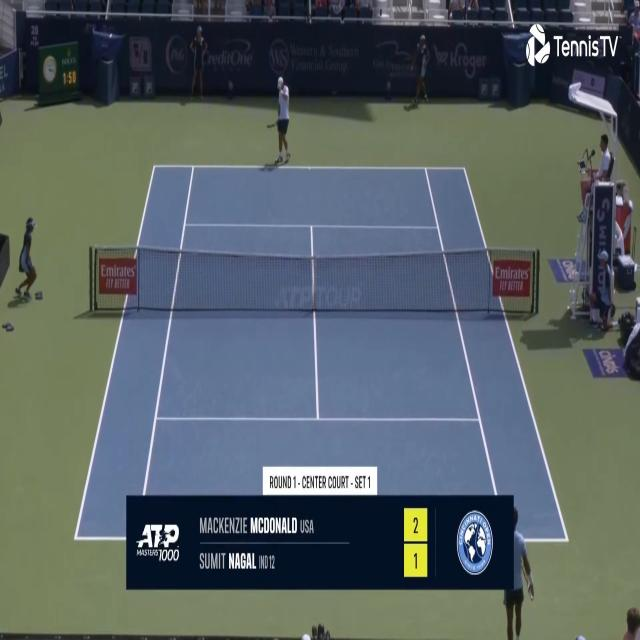tennis-player: (503, 506, 535, 640), (266, 72, 294, 170)
